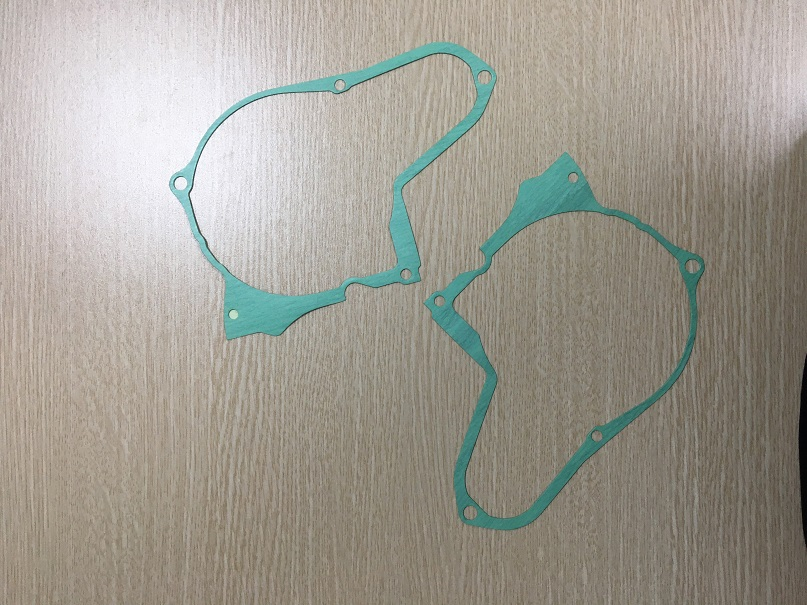type1: (416, 148, 713, 539), (161, 39, 504, 345)
